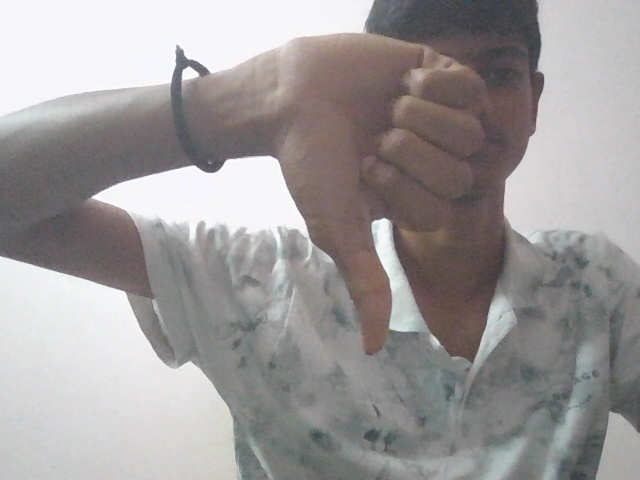no: (252, 23, 496, 359)
